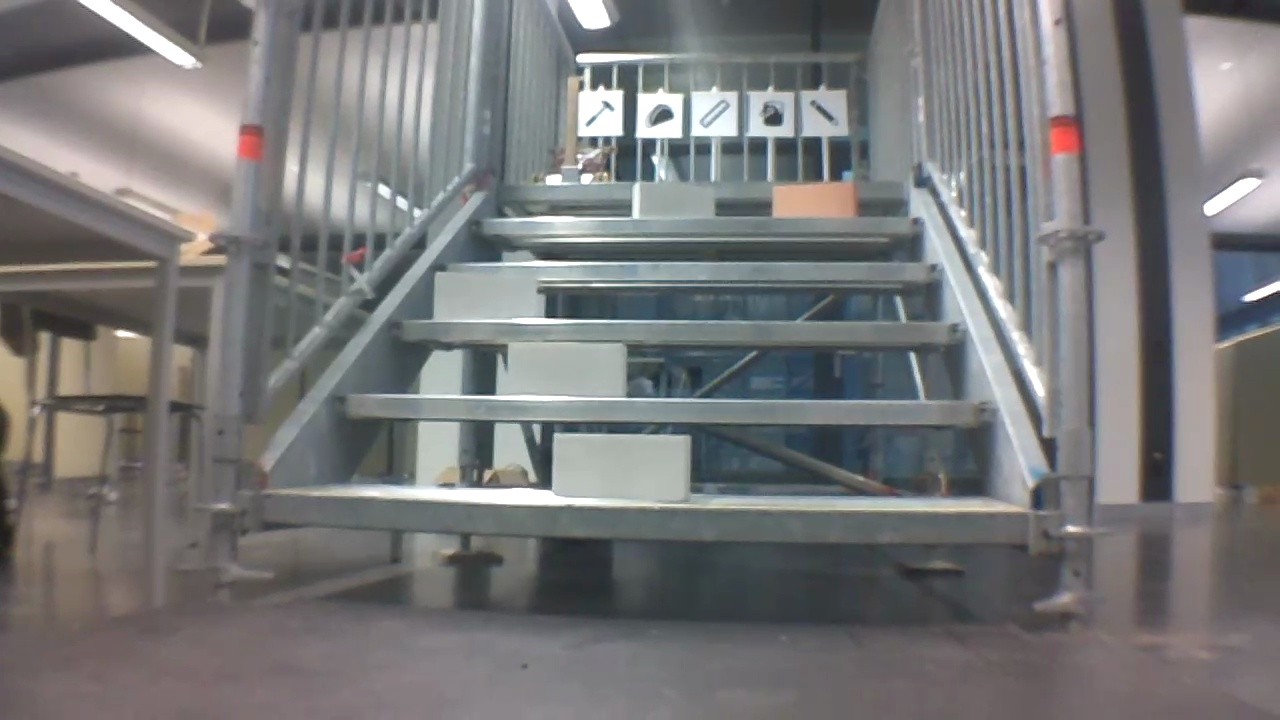brick: (553, 433, 690, 502), (509, 342, 624, 396), (433, 269, 536, 318), (634, 182, 712, 218), (774, 184, 855, 217)
bucket: (751, 97, 790, 130)
edge: (261, 492, 1025, 542), (335, 395, 997, 425), (391, 320, 962, 342), (443, 261, 940, 284), (471, 215, 922, 234), (494, 181, 904, 199)
hammer: (579, 97, 616, 129)
pencil: (806, 94, 841, 129)
ruler: (694, 97, 731, 131)
stairs: (201, 3, 1104, 628)
steps: (252, 168, 1033, 553)
taco: (643, 100, 676, 133)
